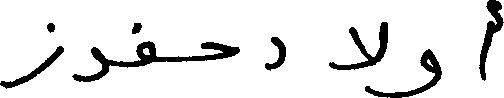أ: (476, 0, 501, 82)
ح: (200, 39, 239, 61)
د: (263, 34, 286, 70)
ز: (0, 21, 63, 90)
ف: (133, 21, 156, 68)
لا: (329, 20, 387, 96)
و: (75, 44, 107, 81), (419, 47, 442, 94)
